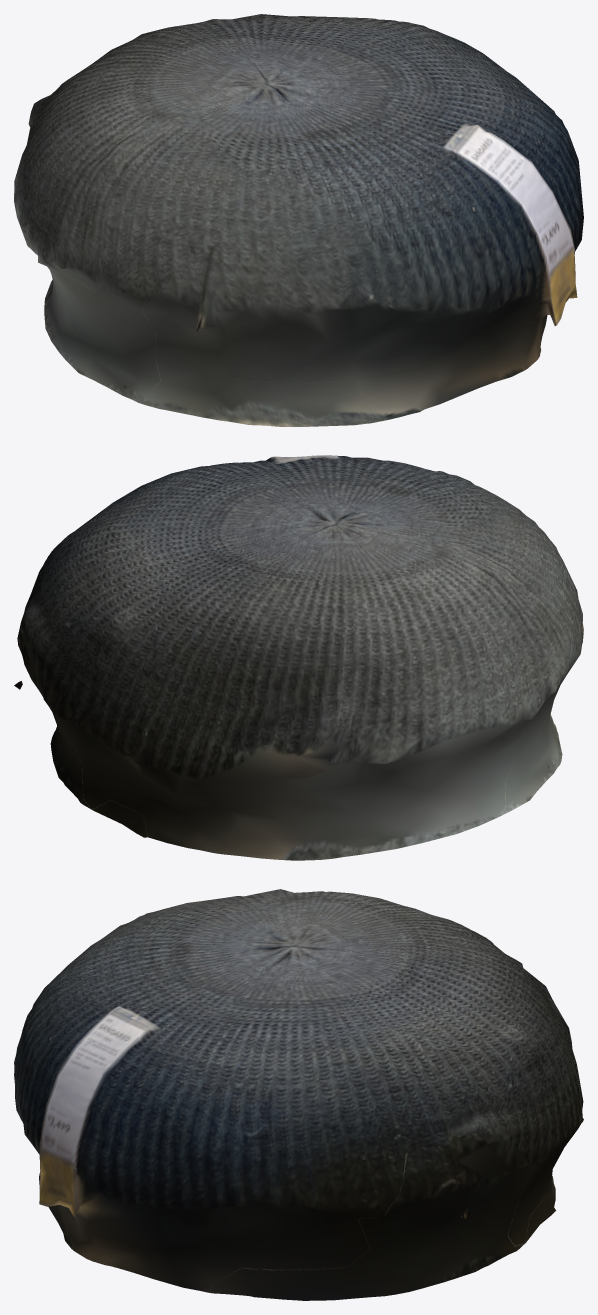
Rendered from 3DModel_LowPoly.obj.
The picture shows the model from 3 angles, top to bottom: view 1: azimuth 30°, elevation 25°; view 2: azimuth 150°, elevation 25°; view 3: azimuth 270°, elevation 25°; orthographic projection. The views are drawn at different scales.
Parts seen in each view (by area): view 1: grp1; view 2: grp1; view 3: grp1.
Part boxes in pixels (bbox=[...]): grp1: bbox=[14, 14, 583, 426]; grp1: bbox=[14, 455, 583, 860]; grp1: bbox=[14, 889, 583, 1300].
Size of the model in its own units: 7.38 by 3.41 by 7.46.
1 material, 1 textured.
